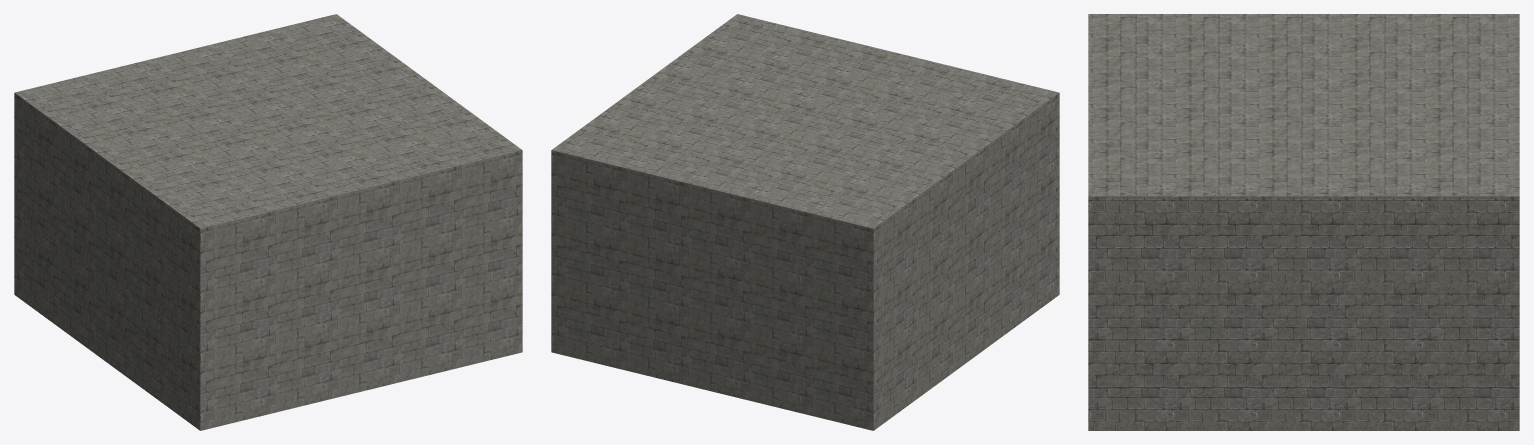
Rendered from unity_dungeon_road03.FBX.
3 renders of one model, left to right at view 1: azimuth 30°, elevation 25°; view 2: azimuth 150°, elevation 25°; view 3: azimuth 270°, elevation 25°, orthographic. The views are drawn at different scales.
Parts seen in each view (by area): view 1: unity_dungeon_road03; view 2: unity_dungeon_road03; view 3: unity_dungeon_road03.
Part boxes in pixels (box(x1,y1,x2,y2)): unity_dungeon_road03: box(14, 14, 522, 430); unity_dungeon_road03: box(551, 14, 1059, 430); unity_dungeon_road03: box(1088, 14, 1519, 430).
Size of the model in its own units: 16 by 9.6 by 16.
